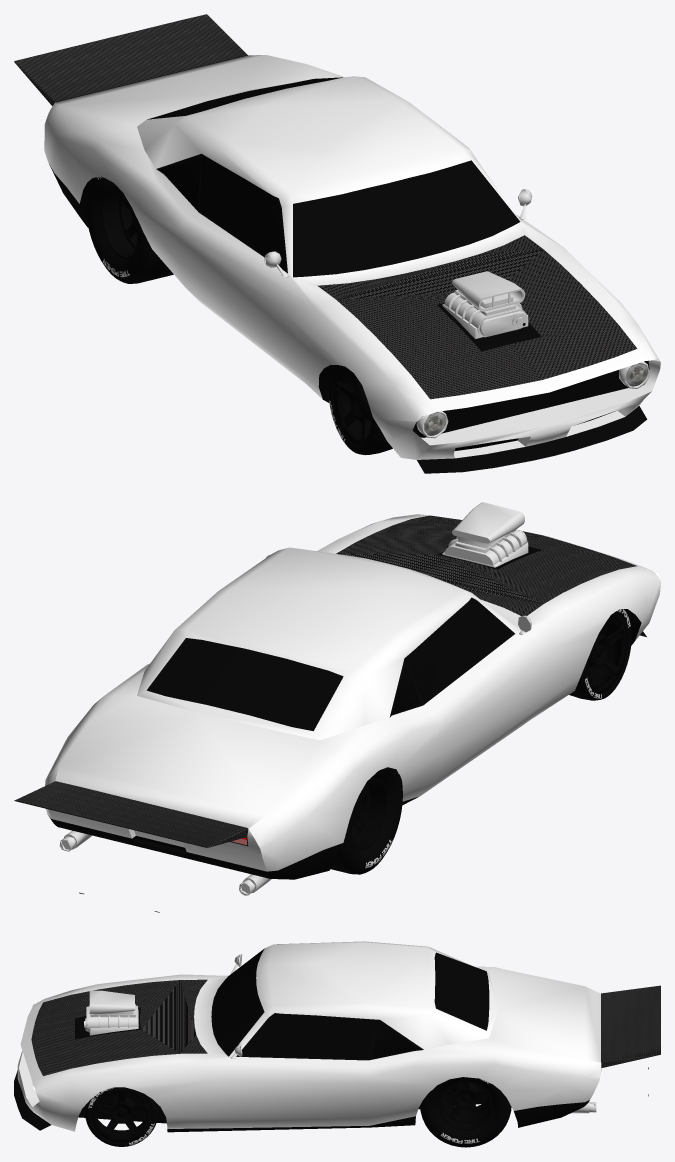
Rendered from car_drag_lo.glb.
3 views of the same model, one above another, from view 1: azimuth 30°, elevation 25°; view 2: azimuth 150°, elevation 25°; view 3: azimuth 270°, elevation 25° (orthographic). The views are drawn at different scales.
Visible parts, largest first — view 1: Custom muscle car (drag car).Body, Drag wheel.Wheel.Bk.R_Tire_0, Drag wheel.Wheel.Ft.R_Rim_0, Drag wheel.Wheel.Bk.R_Rim_0, Drag wheel.Wheel.Ft.R_Tire_0; view 2: Custom muscle car (drag car).Body, Drag wheel.Wheel.Bk.R_Tire_0, Drag wheel.Wheel.Ft.R_Rim_0, Drag wheel.Wheel.Bk.R_Rim_0, Drag wheel.Wheel.Ft.R_Tire_0; view 3: Custom muscle car (drag car).Body, Drag wheel.Wheel.Bk.L_Tire_0, Drag wheel.Wheel.Ft.L_Rim_0, Drag wheel.Wheel.Bk.L_Rim_0, Drag wheel.Wheel.Ft.L_Tire_0.
Part boxes in pixels (<box>): Custom muscle car (drag car).Body: <box>14,14,660,473</box>; Drag wheel.Wheel.Bk.R_Tire_0: <box>85,176,173,283</box>; Drag wheel.Wheel.Ft.R_Rim_0: <box>332,367,372,447</box>; Drag wheel.Wheel.Bk.R_Rim_0: <box>101,187,136,259</box>; Drag wheel.Wheel.Ft.R_Tire_0: <box>328,365,392,455</box>; Custom muscle car (drag car).Body: <box>14,502,660,912</box>; Drag wheel.Wheel.Bk.R_Tire_0: <box>331,767,402,874</box>; Drag wheel.Wheel.Ft.R_Rim_0: <box>587,613,628,693</box>; Drag wheel.Wheel.Bk.R_Rim_0: <box>351,777,387,849</box>; Drag wheel.Wheel.Ft.R_Tire_0: <box>569,609,631,700</box>; Custom muscle car (drag car).Body: <box>14,941,660,1132</box>; Drag wheel.Wheel.Bk.L_Tire_0: <box>420,1077,511,1147</box>; Drag wheel.Wheel.Ft.L_Rim_0: <box>91,1088,151,1142</box>; Drag wheel.Wheel.Bk.L_Rim_0: <box>438,1081,492,1130</box>; Drag wheel.Wheel.Ft.L_Tire_0: <box>84,1087,158,1146</box>.
Bounding box in the file's own units: 2.3 × 1.49 × 6.56.
Materials: 14 (3 with a texture image).
